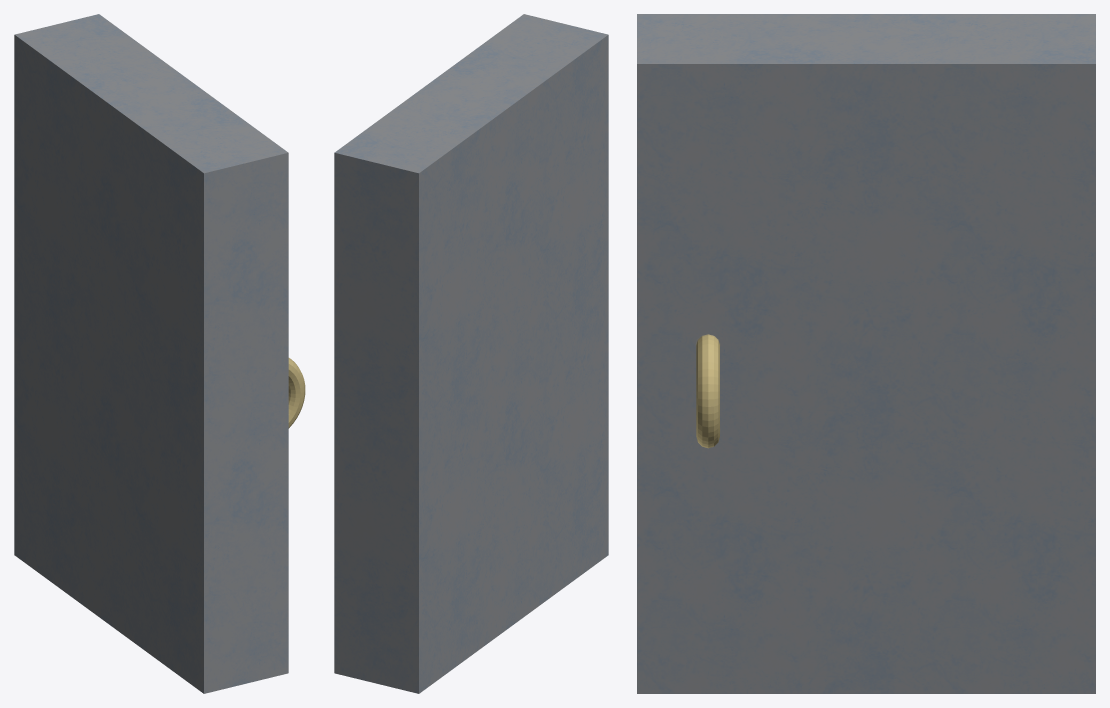
The model's file is 300kgDoor.fbx.
The picture shows the model from 3 angles, left to right: view 1: azimuth 30°, elevation 25°; view 2: azimuth 150°, elevation 25°; view 3: azimuth 270°, elevation 25°; orthographic projection. The views are drawn at different scales.
Parts seen in each view (by area): view 1: Torus; view 2: Torus; view 3: Torus.
Part boxes in pixels (x1=…): Torus: x1=14, y1=14, x2=305, y2=693; Torus: x1=334, y1=14, x2=608, y2=693; Torus: x1=637, y1=14, x2=1095, y2=693.
Bounding box in the file's own units: 76.55 × 294 × 194.
